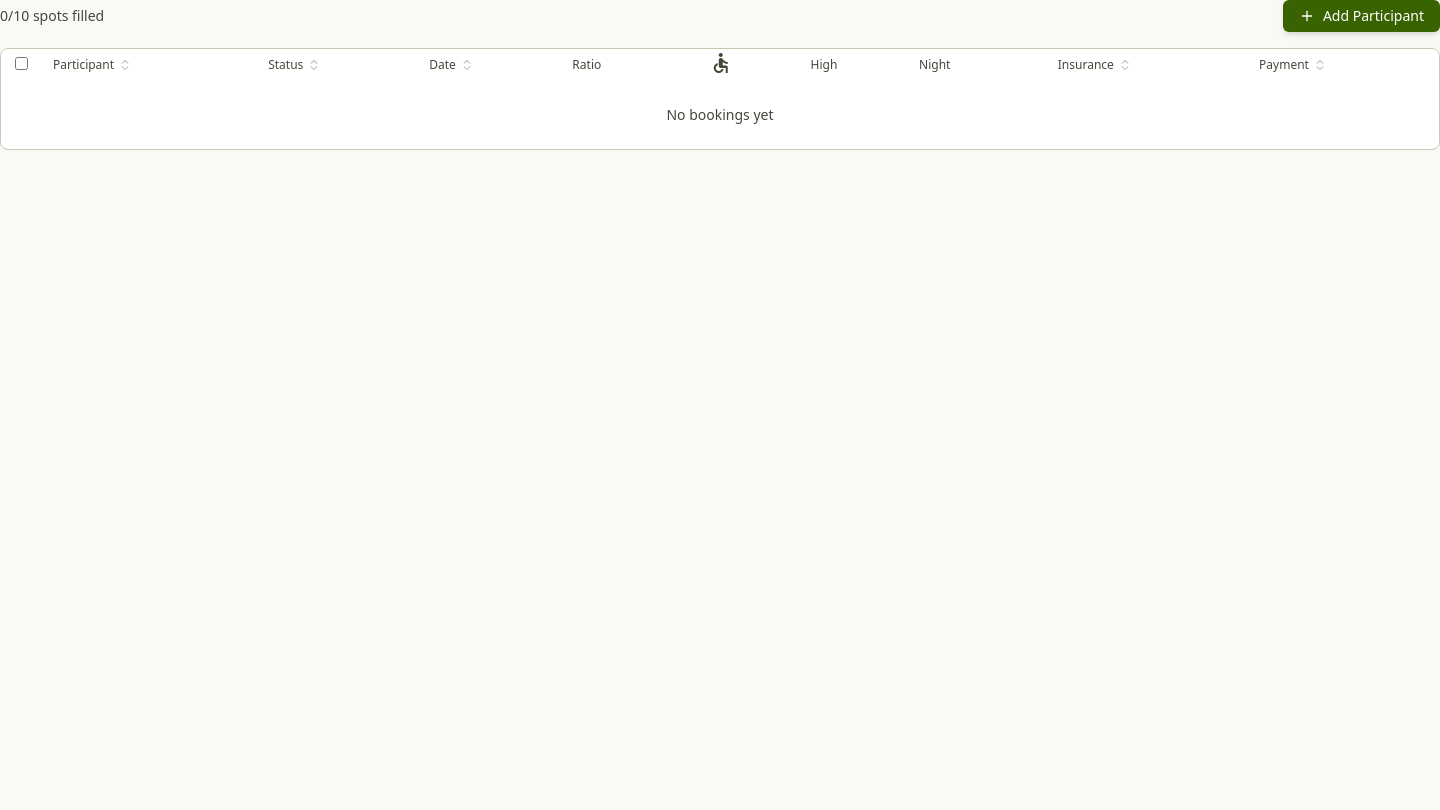
Test: BookingsTab — Add Booking: the server's refusal reaches the user › shows the server's own message, not the generic line, and keeps the modal and everything entered
The image size is (1440, 810).
Click the button "Add Participant" at (1361, 16), box [1283,0,1439,32]
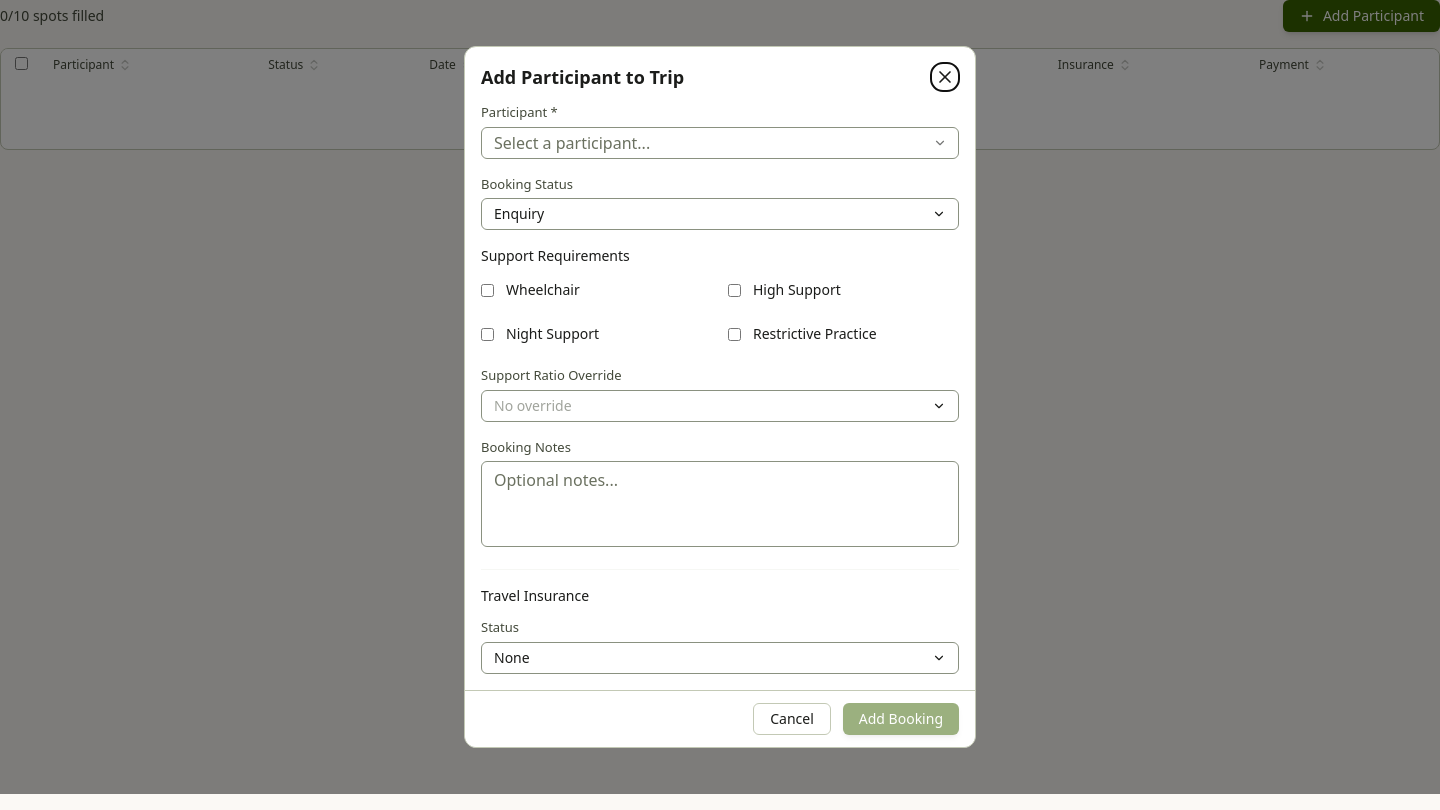
Click the dropdown labelled "Participant *" at (720, 143), box [481,127,959,159]
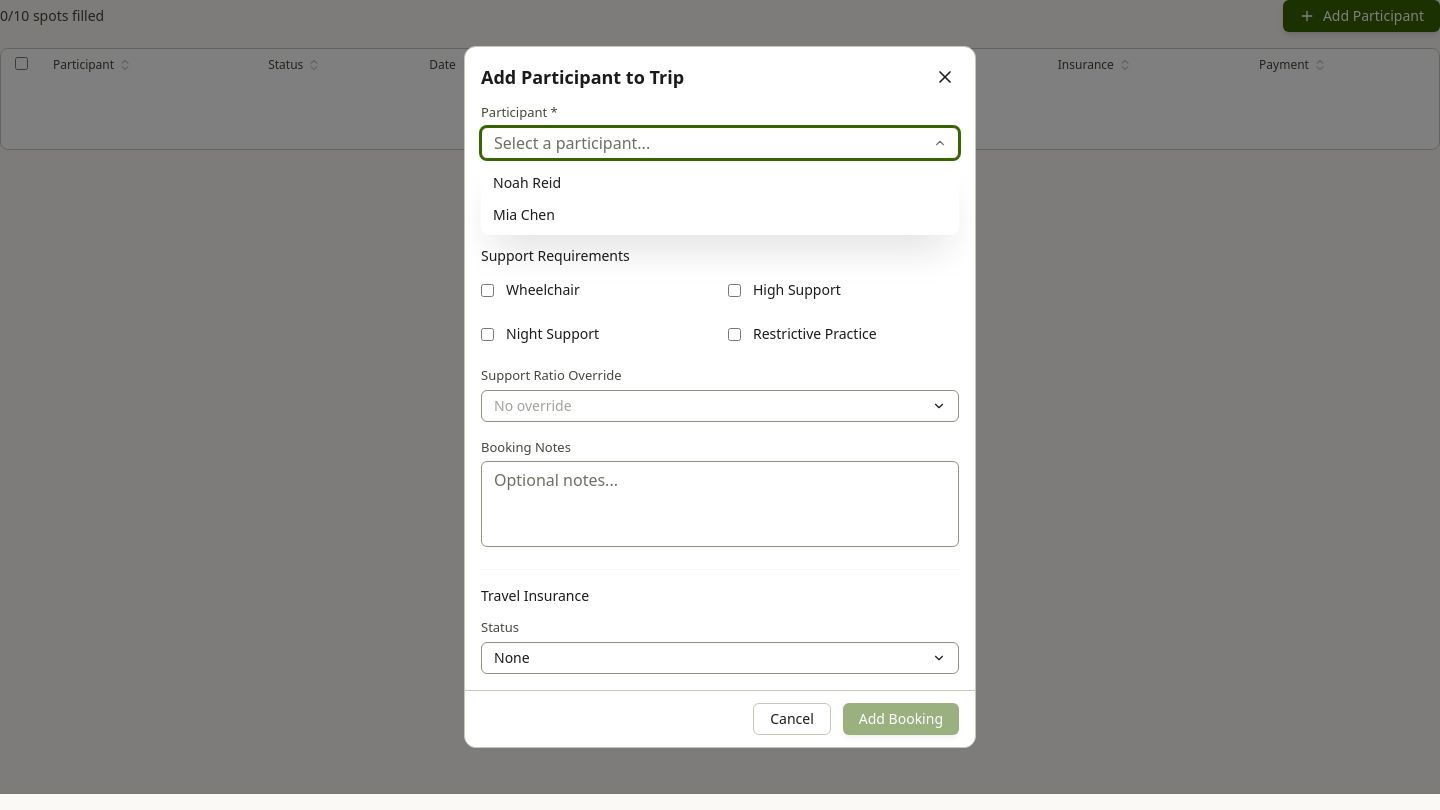
Click the option "Mia Chen" at (524, 214), box [493,205,555,224]
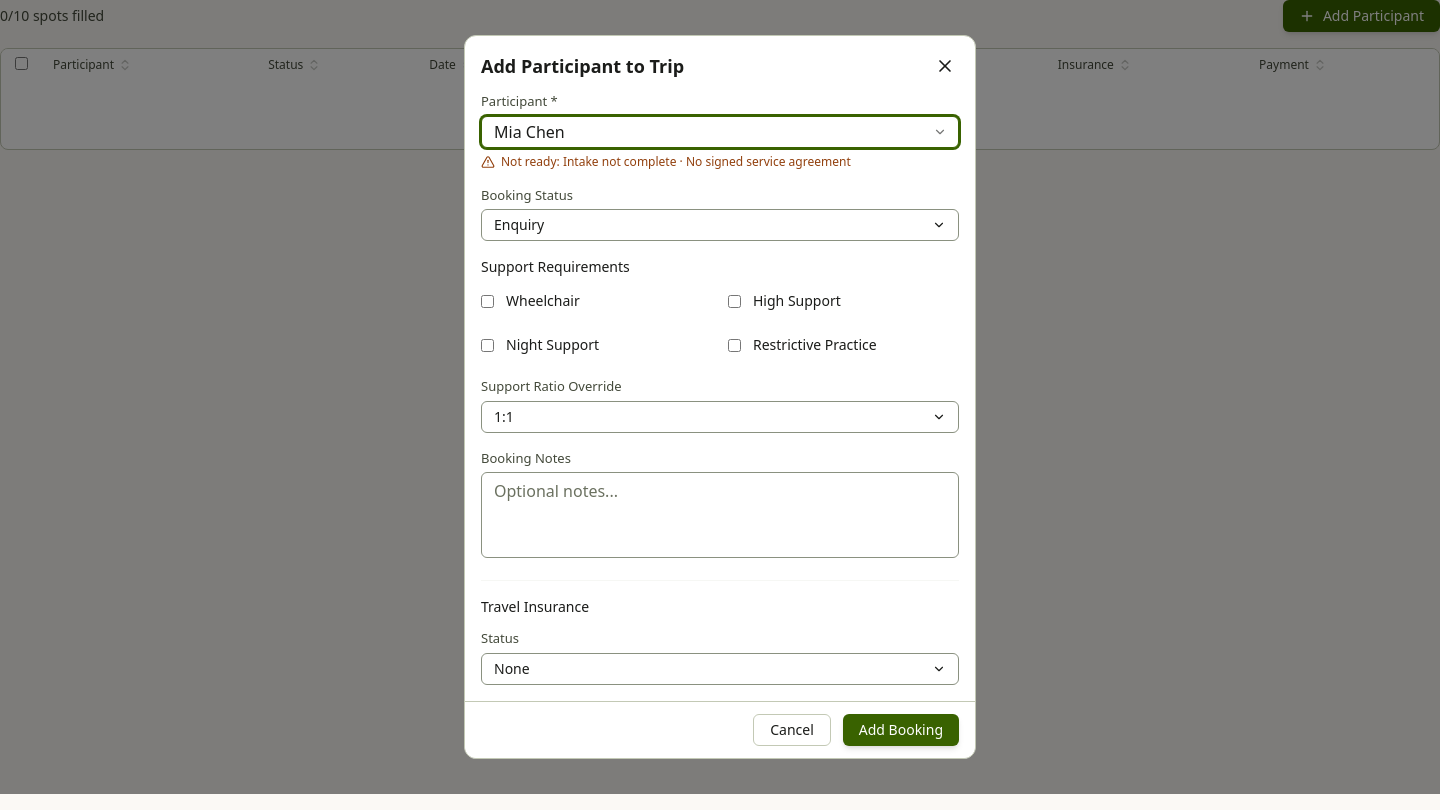
Type "Needs the hoist" into the text box with placeholder "Optional notes..." at (720, 515), box [481,472,959,558]
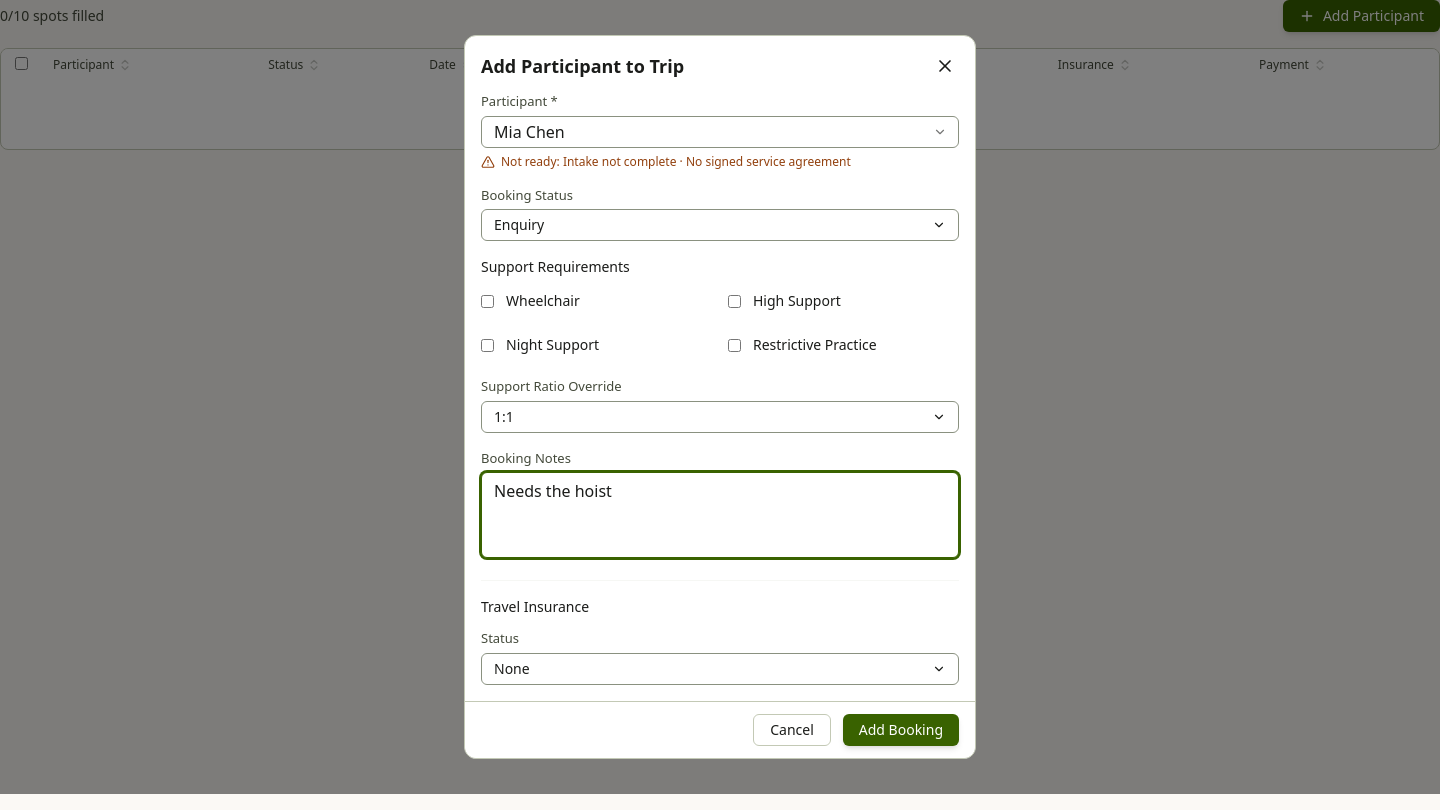
Click the checkbox labelled "Wheelchair" at (488, 301), box [481,295,494,308]
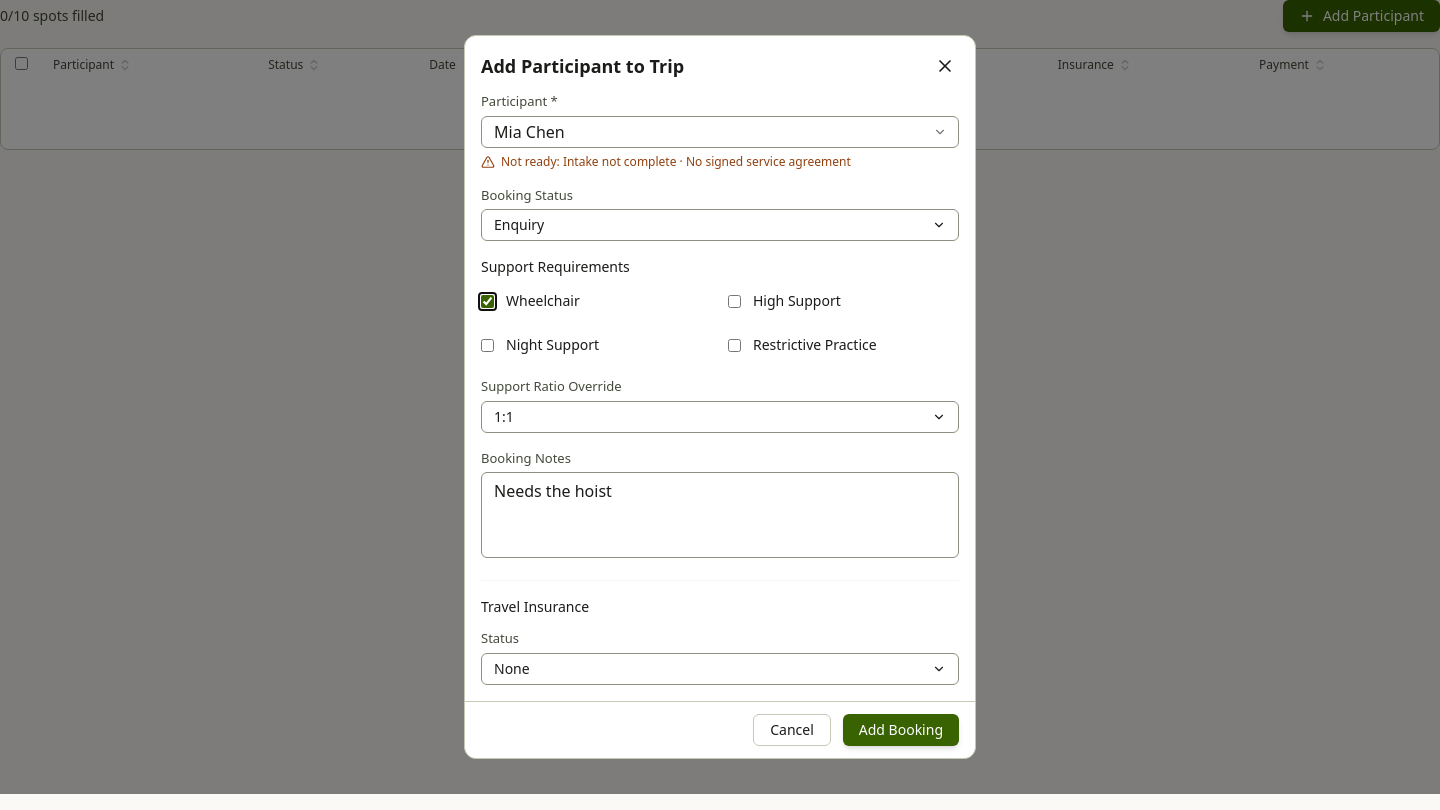
Click the button "Add Booking" at (901, 730), box [843,714,959,746]
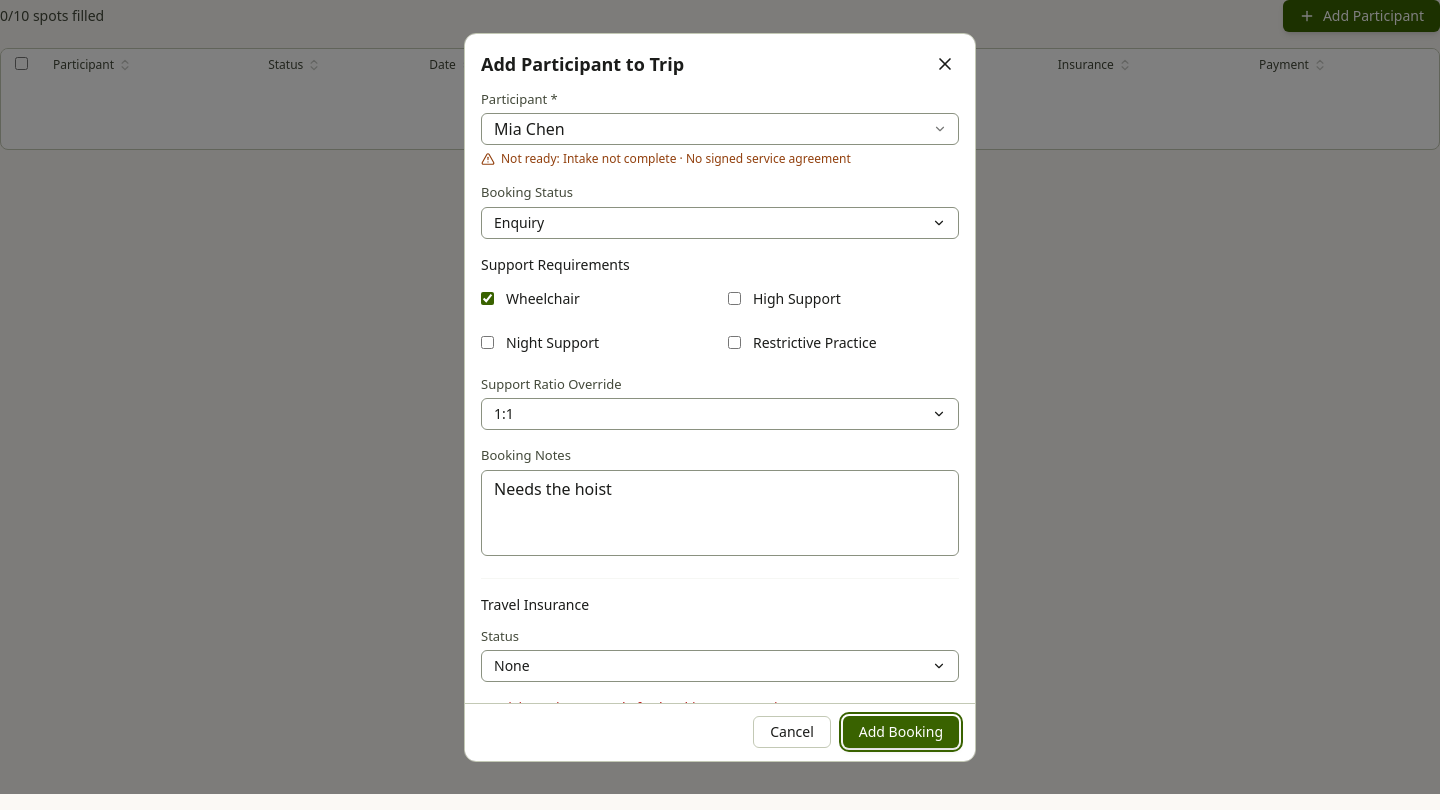
expect the heading "Add Participant to Trip" is shown: met, box [481,50,684,78]
expect the dropdown labelled "Participant *" holds "Mia Chen": met, box [481,113,959,145]
expect the text "Participant is not ready for booking or rostering." is shown: met, box [481,698,798,717]
